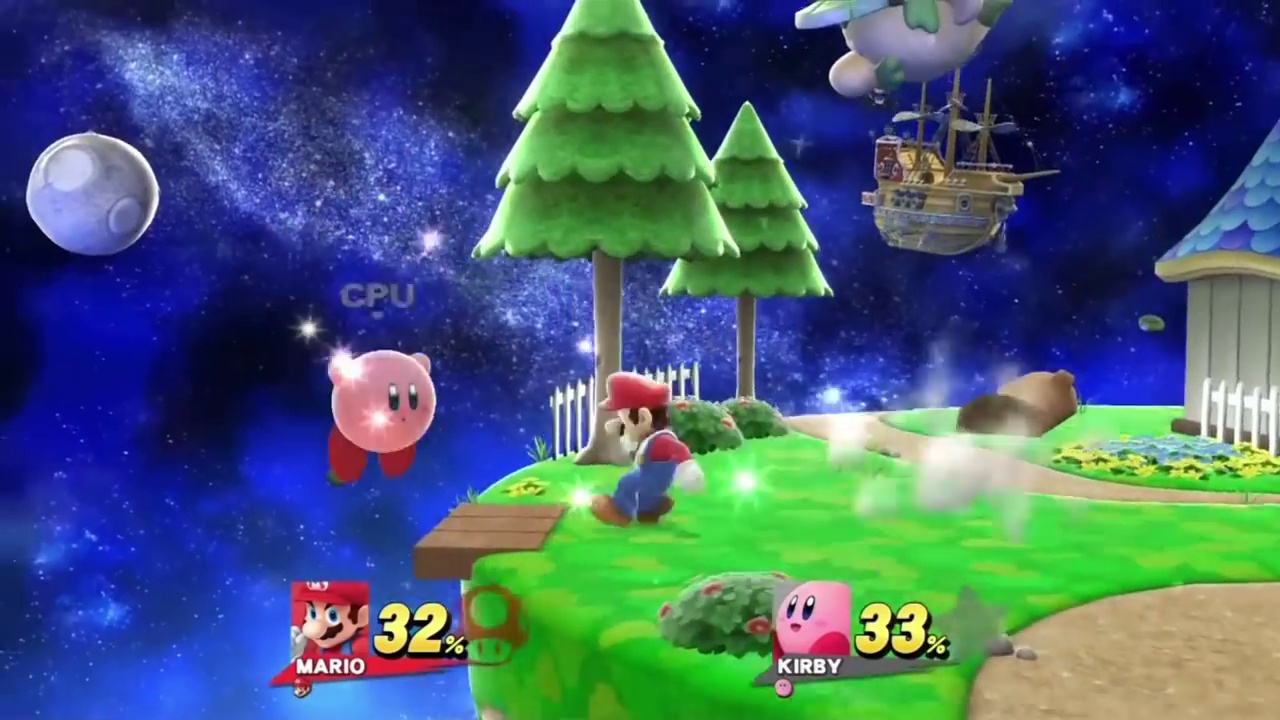Mario: (590, 373, 706, 531)
